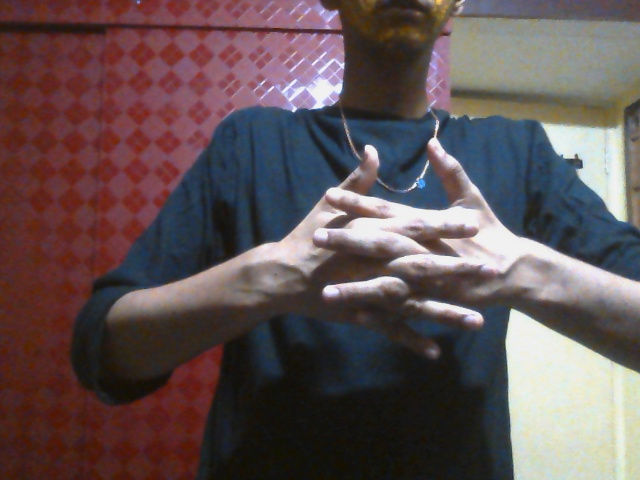W: (274, 142, 505, 374)
